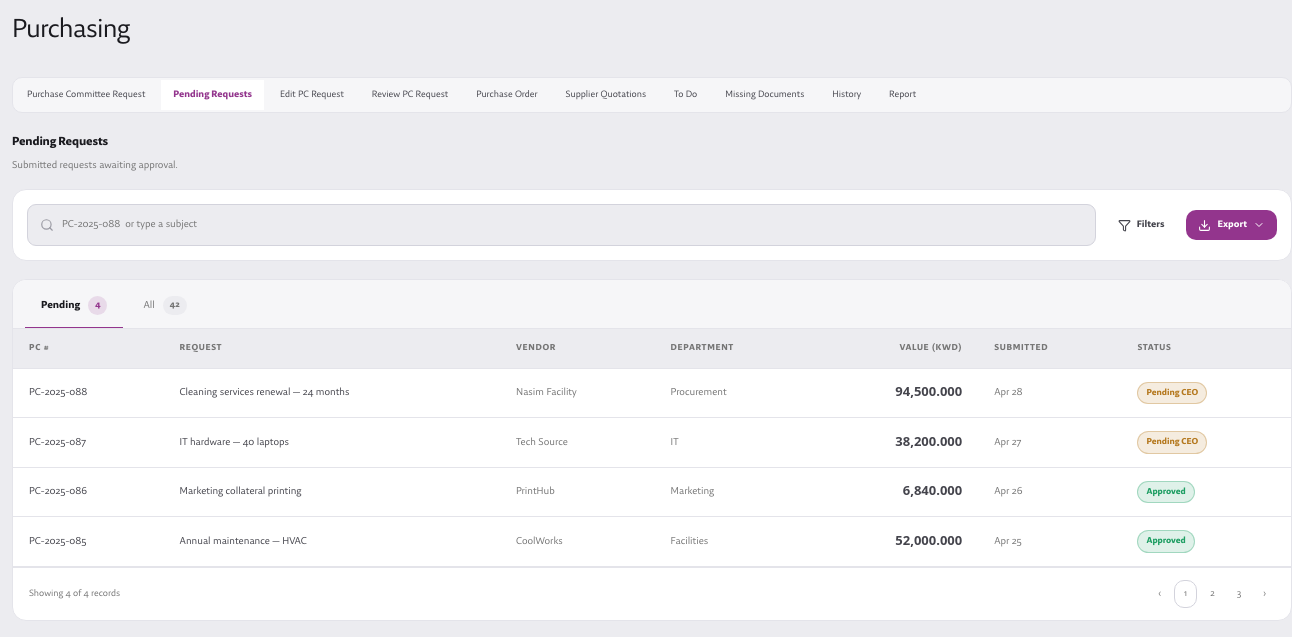
Scenario: HomePurchasingPage › narrows Pending Requests via the shared row-filter predicate
The image size is (1292, 637).
In the field with placeholder "PC-2025-088 or type a subject": (572, 225) [62,205,1083,245], type "IT hardware"
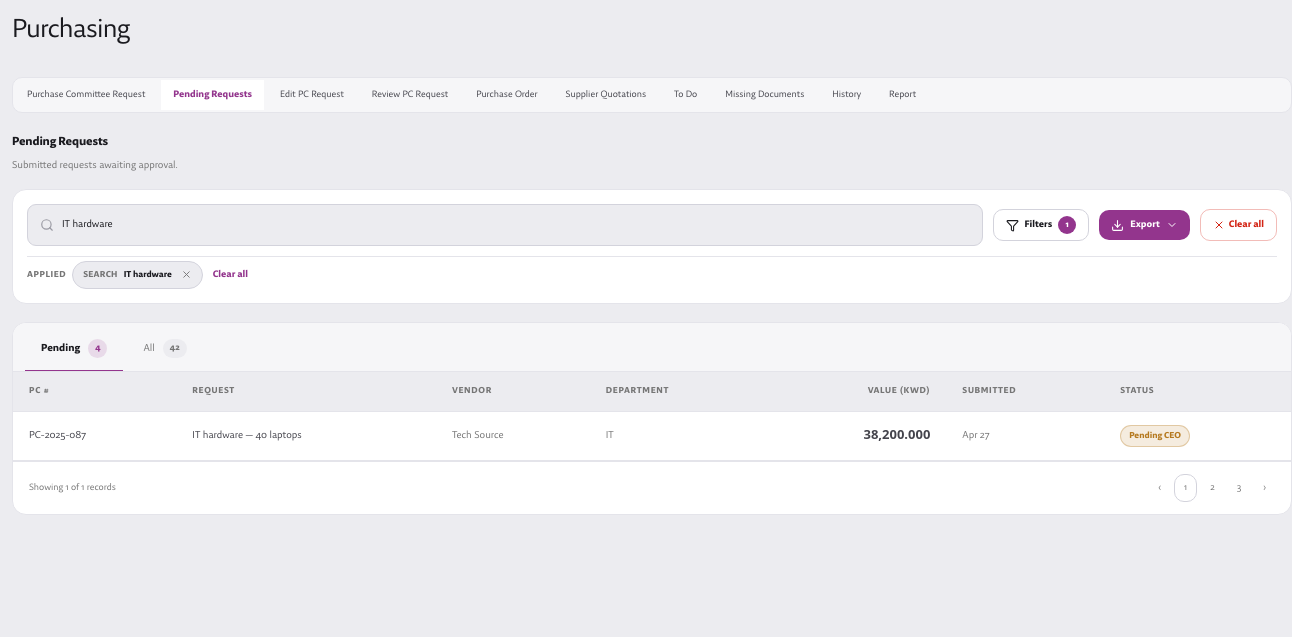
Expected: the text "PC-2025-087" is shown, [13,411,176,461]
Expected: the text "PC-2025-088" is gone
